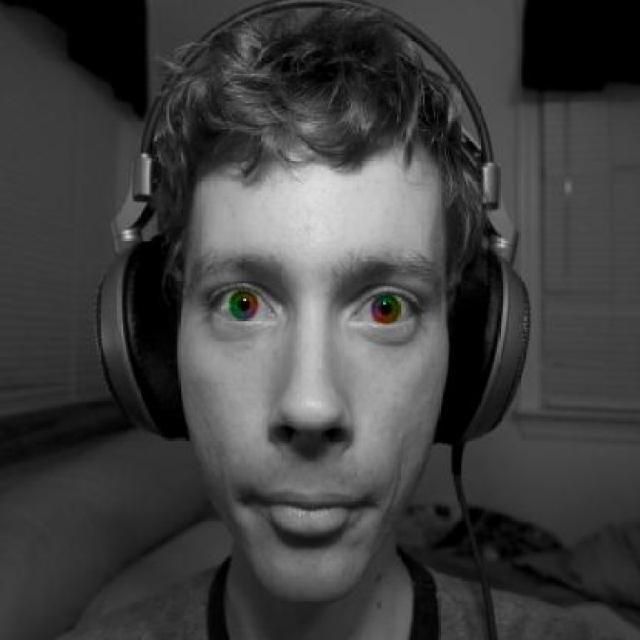earphone: (90, 4, 553, 448)
